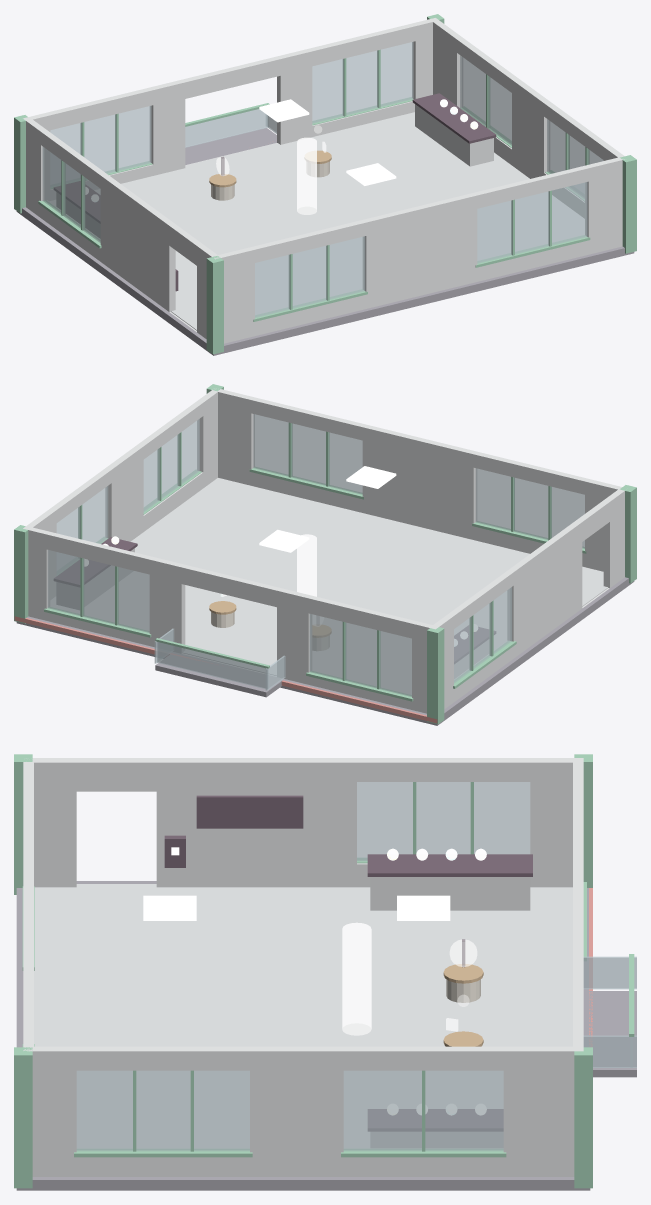
File: Floor03.glb
The picture shows the model from 3 angles, top to bottom: view 1: azimuth 30°, elevation 25°; view 2: azimuth 150°, elevation 25°; view 3: azimuth 270°, elevation 25°; orthographic projection. The views are drawn at different scales.
Parts seen in each view (by area): view 1: Floor03_17, Floor03_14, Floor03_13, Floor03_3, Floor03_6, Floor03_0, Floor03_16, Floor03_12, Floor03_8, Floor03_21, Floor03_22, Floor03_11; view 2: Floor03_17, Floor03_14, Floor03_13, Floor03_3, Floor03_6, Floor03_12, Floor03_15, Floor03_16, Floor03_0, Floor03_21, Floor03_8, Floor03_22 (+1 smaller); view 3: Floor03_14, Floor03_17, Floor03_13, Floor03_3, Floor03_6, Floor03_0, Floor03_16, Floor03_8, Floor03_12, Floor03_21, Floor03_11, Floor03_22 (+1 smaller).
Boxes of the visible parts, x1,y1,x2,y2 form: Floor03_17: [23, 18, 624, 343]; Floor03_14: [50, 112, 584, 330]; Floor03_13: [42, 42, 603, 317]; Floor03_3: [14, 14, 636, 354]; Floor03_6: [16, 128, 634, 355]; Floor03_0: [54, 93, 496, 291]; Floor03_16: [56, 104, 493, 238]; Floor03_12: [185, 109, 276, 147]; Floor03_8: [297, 137, 316, 214]; Floor03_21: [259, 99, 396, 185]; Floor03_22: [211, 161, 329, 200]; Floor03_11: [209, 150, 331, 187]; Floor03_17: [23, 388, 624, 713]; Floor03_14: [50, 478, 608, 694]; Floor03_13: [47, 414, 584, 696]; Floor03_3: [14, 384, 636, 724]; Floor03_6: [16, 577, 634, 725]; Floor03_12: [154, 628, 285, 690]; Floor03_15: [14, 616, 437, 723]; Floor03_16: [56, 548, 488, 678]; Floor03_0: [54, 537, 495, 663]; Floor03_21: [259, 466, 396, 552]; Floor03_8: [297, 534, 316, 596]; Floor03_22: [211, 612, 329, 650]; Floor03_14: [34, 884, 572, 1147]; Floor03_17: [23, 758, 583, 1176]; Floor03_13: [76, 782, 530, 1151]; Floor03_3: [14, 754, 634, 1188]; Floor03_6: [16, 881, 636, 1190]; Floor03_0: [164, 795, 532, 1131]; Floor03_16: [370, 877, 530, 1147]; Floor03_8: [342, 922, 371, 1035]; Floor03_12: [583, 956, 636, 1067]; Floor03_21: [143, 895, 450, 920]; Floor03_11: [443, 964, 483, 1046]; Floor03_22: [446, 979, 480, 1002].
Bounding box in the file's own units: 53.4 × 11.3 × 46.7.
